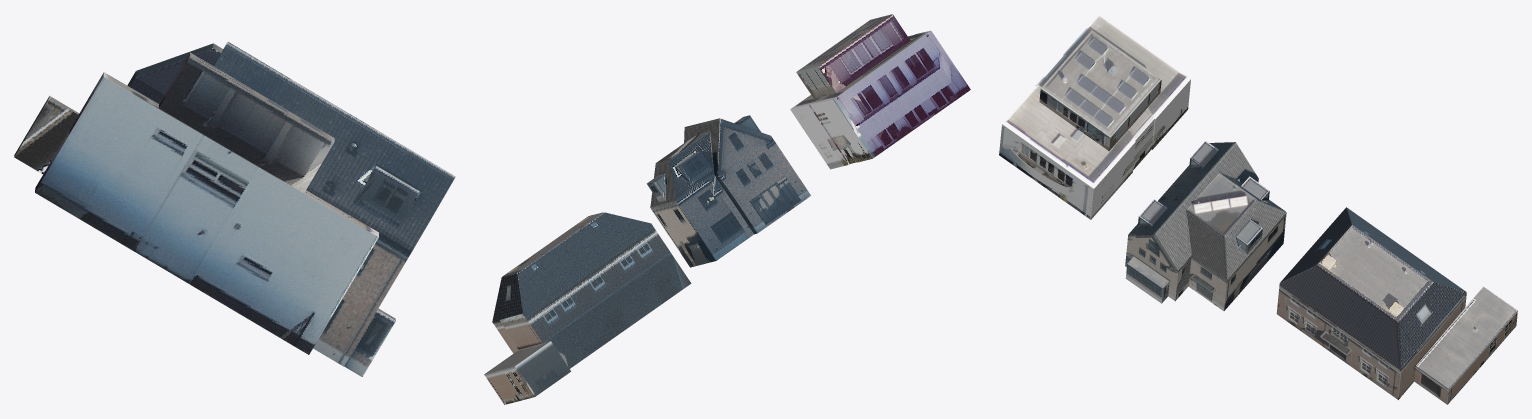
3 views of the same model, side by side, from view 1: azimuth 30°, elevation 25°; view 2: azimuth 150°, elevation 25°; view 3: azimuth 270°, elevation 25° (orthographic). The views are drawn at different scales.
Parts seen in each view (by area): view 1: BAG_0599100000754115, BAG_0599100110017015 (×2), BAG_0599100000753166; view 2: BAG_0599100000753166 (×2), BAG_0599100000754115 (×2), BAG_0599100110017015 (×2); view 3: BAG_0599100000753166 (×2), BAG_0599100000754115 (×2), BAG_0599100110017015 (×2).
Boxes of the visible parts, bbox=[...] form: BAG_0599100000754115: bbox=[35, 52, 378, 354]; BAG_0599100110017015 (×2): bbox=[213, 42, 455, 376]; BAG_0599100000753166: bbox=[14, 43, 223, 174]; BAG_0599100000753166 (×2): bbox=[484, 212, 691, 404]; BAG_0599100000754115 (×2): bbox=[790, 14, 970, 169]; BAG_0599100110017015 (×2): bbox=[646, 115, 810, 267]; BAG_0599100000753166 (×2): bbox=[1276, 207, 1517, 404]; BAG_0599100000754115 (×2): bbox=[999, 14, 1190, 219]; BAG_0599100110017015 (×2): bbox=[1125, 140, 1286, 310].
Size of the model in its own units: 31.74 by 28.89 by 47.94.
Materials: 2 (2 with a texture image).
